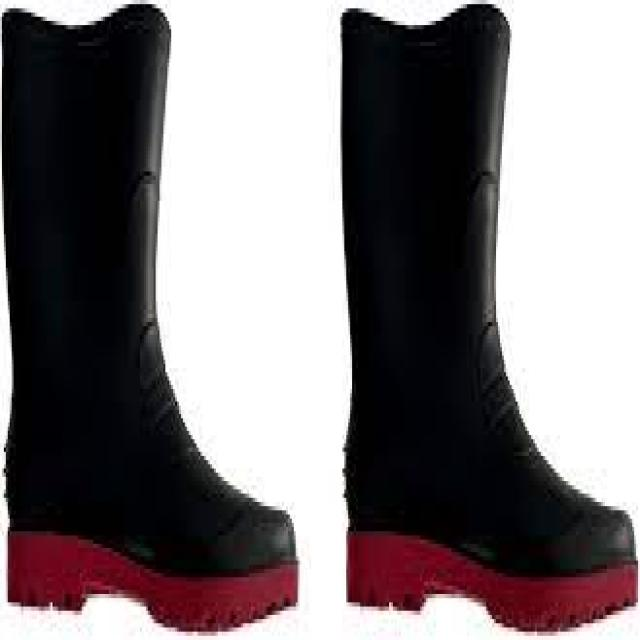shoes: (2, 5, 298, 628), (342, 5, 638, 628)
